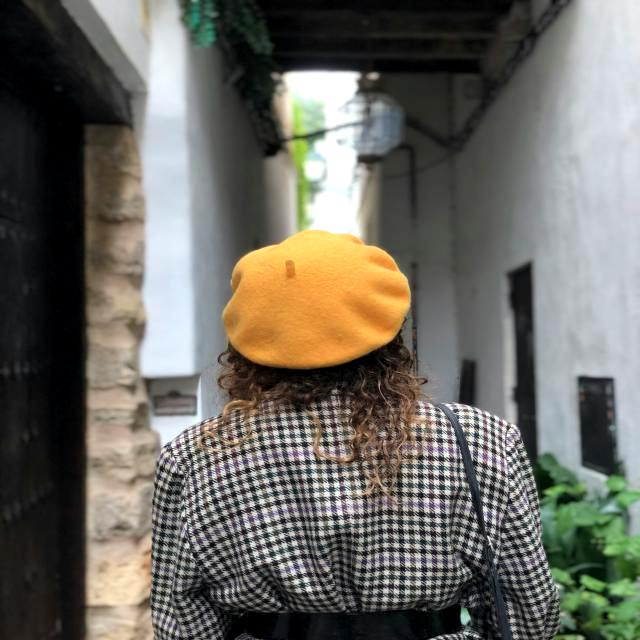no_hard_hat: (222, 230, 410, 370)
person: (152, 230, 559, 640)
